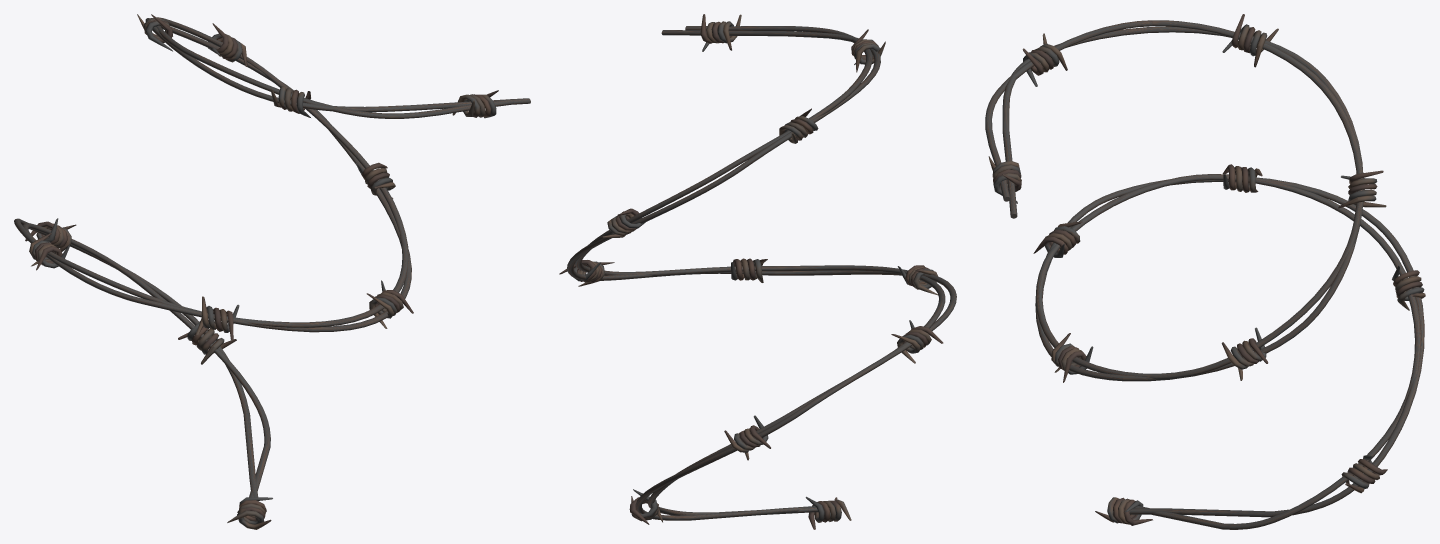
File: barbedSo.glb
3 renders of one model, left to right at view 1: azimuth 30°, elevation 25°; view 2: azimuth 150°, elevation 25°; view 3: azimuth 270°, elevation 25°, orthographic. The views are drawn at different scales.
Parts seen in each view (by area): view 1: Rail_by_daftvid, Rail_Wire, Rail_Wire_5, Rail_Wire_2, Rail_Wire_6, Rail_Wire_11, Rail_Wire_7, Rail_Wire_8, Rail_Wire_10, Rail_Wire_4, Rail_Wire_3; view 2: Rail_by_daftvid, Rail_Wire_4, Rail_Wire, Rail_Wire_11, Rail_Wire_3, Rail_Wire_6, Rail_Wire_9, Rail_Wire_8, Rail_Wire_5, Rail_Wire_10, Rail_Wire_7, Rail_Wire_2; view 3: Rail_by_daftvid, Rail_Wire_8, Rail_Wire_9, Rail_Wire_10, Rail_Wire_7, Rail_Wire_2, Rail_Wire_5, Rail_Wire, Rail_Wire_6, Rail_Wire_3, Rail_Wire_4, Rail_Wire_11.
Boxes of the visible parts, <box> form: Rail_by_daftvid: <box>14,17,530,520</box>; Rail_Wire: <box>227,497,272,529</box>; Rail_Wire_5: <box>196,296,239,340</box>; Rail_Wire_2: <box>178,321,236,364</box>; Rail_Wire_6: <box>366,280,413,328</box>; Rail_Wire_11: <box>452,90,498,118</box>; Rail_Wire_7: <box>355,162,395,198</box>; Rail_Wire_8: <box>208,23,247,66</box>; Rail_Wire_10: <box>270,86,310,117</box>; Rail_Wire_4: <box>29,233,69,270</box>; Rail_Wire_3: <box>25,218,76,251</box>; Rail_by_daftvid: <box>567,26,956,520</box>; Rail_Wire_4: <box>891,320,943,363</box>; Rail_Wire: <box>805,496,851,529</box>; Rail_Wire_11: <box>700,14,741,51</box>; Rail_Wire_3: <box>724,415,770,460</box>; Rail_Wire_6: <box>731,258,767,282</box>; Rail_Wire_9: <box>779,108,818,143</box>; Rail_Wire_8: <box>600,208,645,237</box>; Rail_Wire_5: <box>897,265,938,295</box>; Rail_Wire_10: <box>851,29,885,72</box>; Rail_Wire_7: <box>559,260,614,286</box>; Rail_Wire_2: <box>629,489,662,524</box>; Rail_by_daftvid: <box>985,20,1424,529</box>; Rail_Wire_8: <box>1338,170,1386,208</box>; Rail_Wire_9: <box>1222,14,1278,67</box>; Rail_Wire_10: <box>1022,33,1067,86</box>; Rail_Wire_7: <box>1221,327,1268,380</box>; Rail_Wire_2: <box>1341,455,1387,493</box>; Rail_Wire_5: <box>1033,221,1082,257</box>; Rail_Wire: <box>1095,497,1152,525</box>; Rail_Wire_6: <box>1051,333,1093,382</box>; Rail_Wire_3: <box>1392,265,1425,310</box>; Rail_Wire_4: <box>1222,164,1262,192</box>; Rail_Wire_11: <box>988,156,1021,203</box>.
Size of the model in its own units: 10.25 by 11.98 by 9.8.
1 material, 1 textured.
